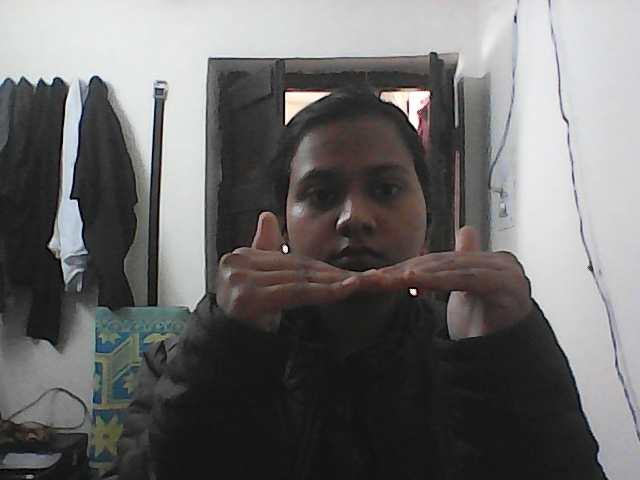Equal: (169, 202, 560, 398)
